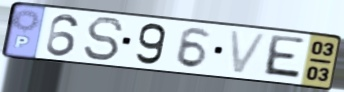6: (173, 26, 213, 70), (44, 12, 81, 58)
9: (134, 22, 168, 66)
E: (260, 33, 308, 82)
S: (81, 15, 126, 63)
V: (227, 28, 271, 76)
